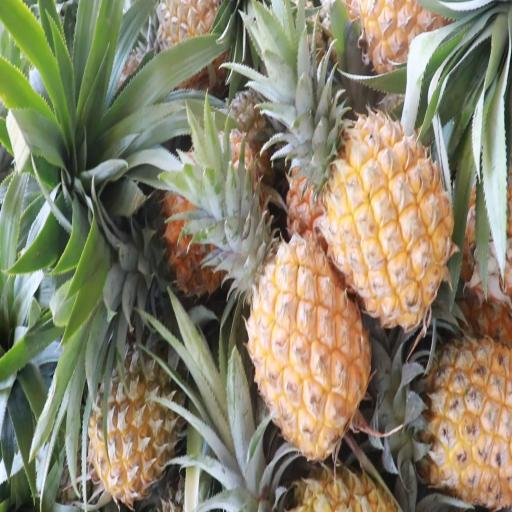Pineapple - v8 v1: (302, 108, 454, 322), (241, 240, 375, 461), (386, 337, 512, 499), (92, 316, 182, 506)
